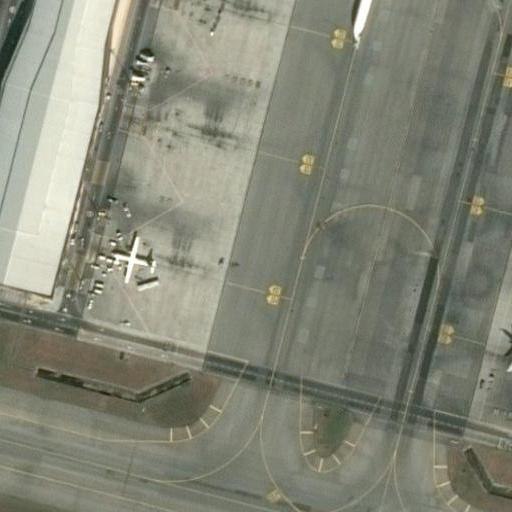Aircraft: (314, 0, 434, 40), (111, 230, 155, 284), (499, 308, 512, 413)
